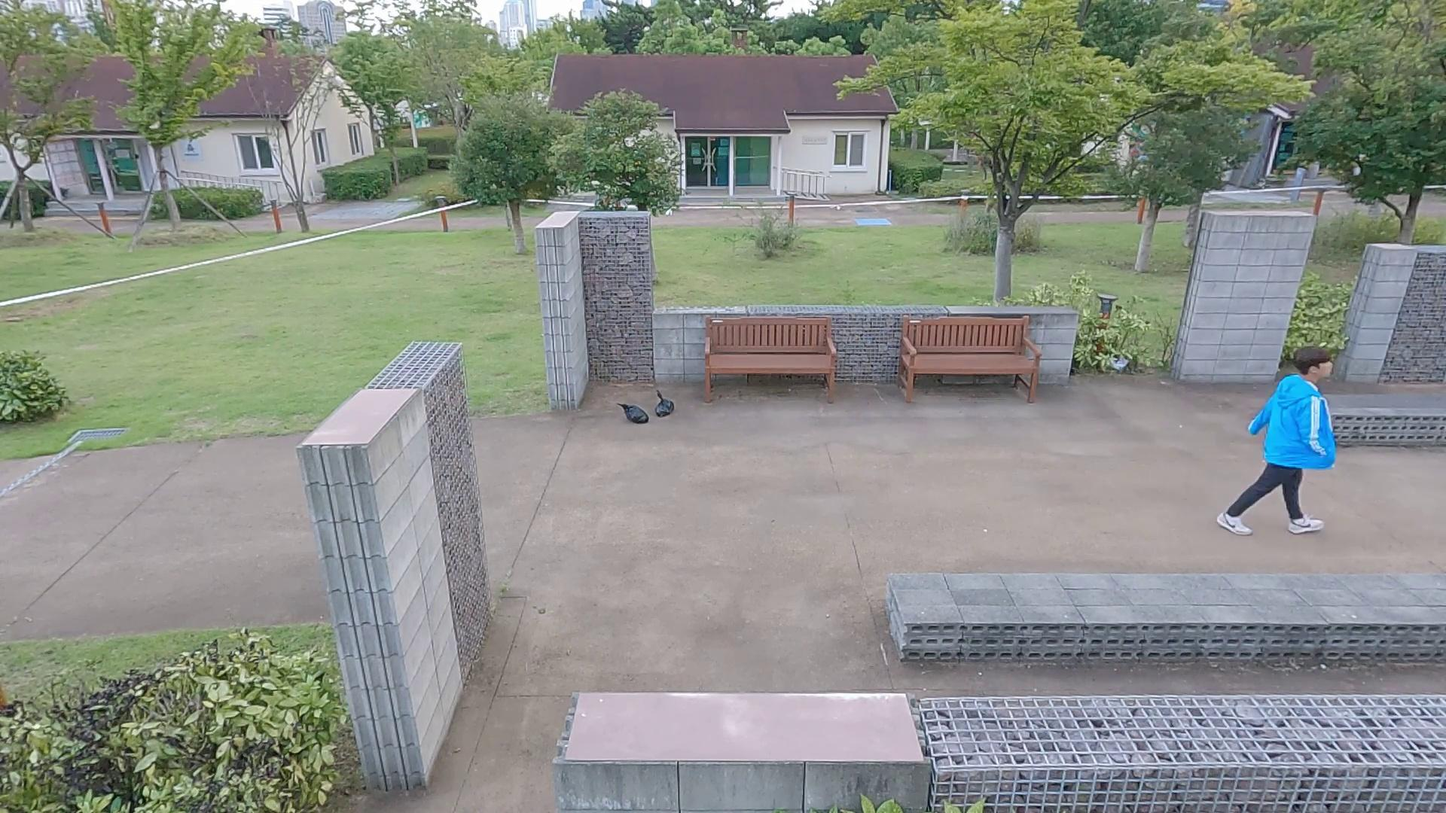person: (1219, 343, 1337, 540)
trash: (651, 390, 680, 427), (619, 399, 648, 427), (1111, 354, 1132, 377)
